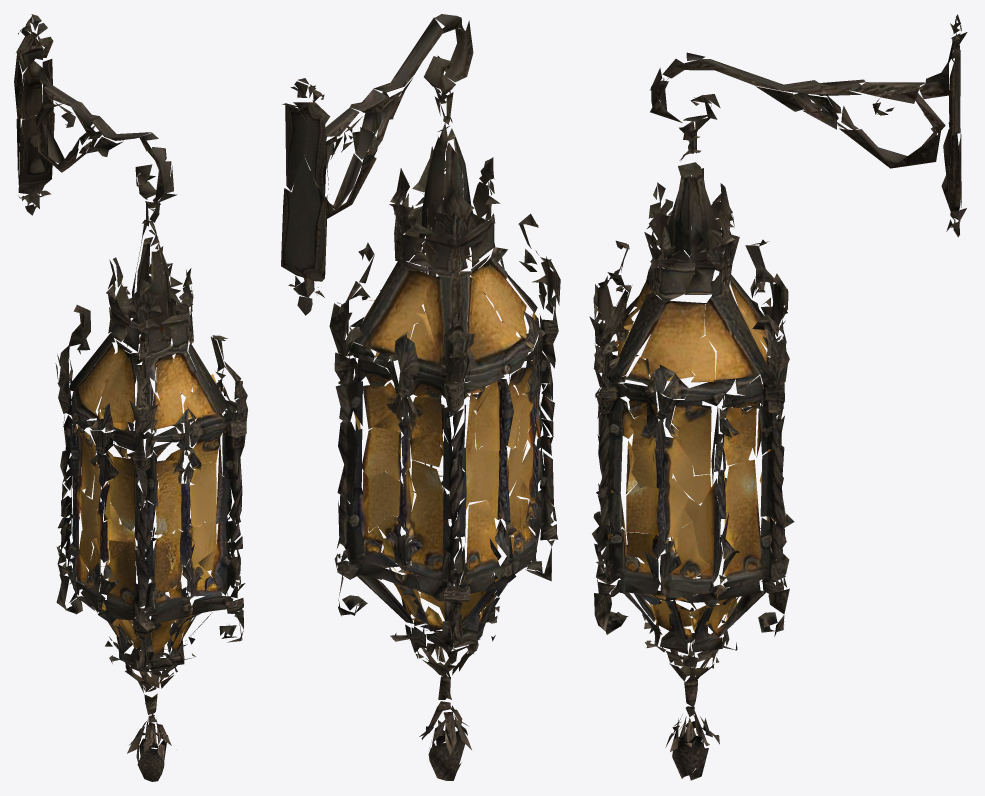
The model's file is lantern.glb.
3 views of the same model, side by side, from view 1: azimuth 30°, elevation 25°; view 2: azimuth 150°, elevation 25°; view 3: azimuth 270°, elevation 25° (orthographic). The views are drawn at different scales.
Visible parts, largest first — view 1: tripo_node_0e6810a3-5d26-463b-90e5-add963c34306; view 2: tripo_node_0e6810a3-5d26-463b-90e5-add963c34306; view 3: tripo_node_0e6810a3-5d26-463b-90e5-add963c34306.
Part boxes in pixels (<box>): tripo_node_0e6810a3-5d26-463b-90e5-add963c34306: <box>14,14,247,781</box>; tripo_node_0e6810a3-5d26-463b-90e5-add963c34306: <box>281,14,560,780</box>; tripo_node_0e6810a3-5d26-463b-90e5-add963c34306: <box>589,14,967,780</box>.
Size of the model in its own units: 0.2104 by 0.9633 by 0.4345.
Materials: 1 (1 with a texture image).
